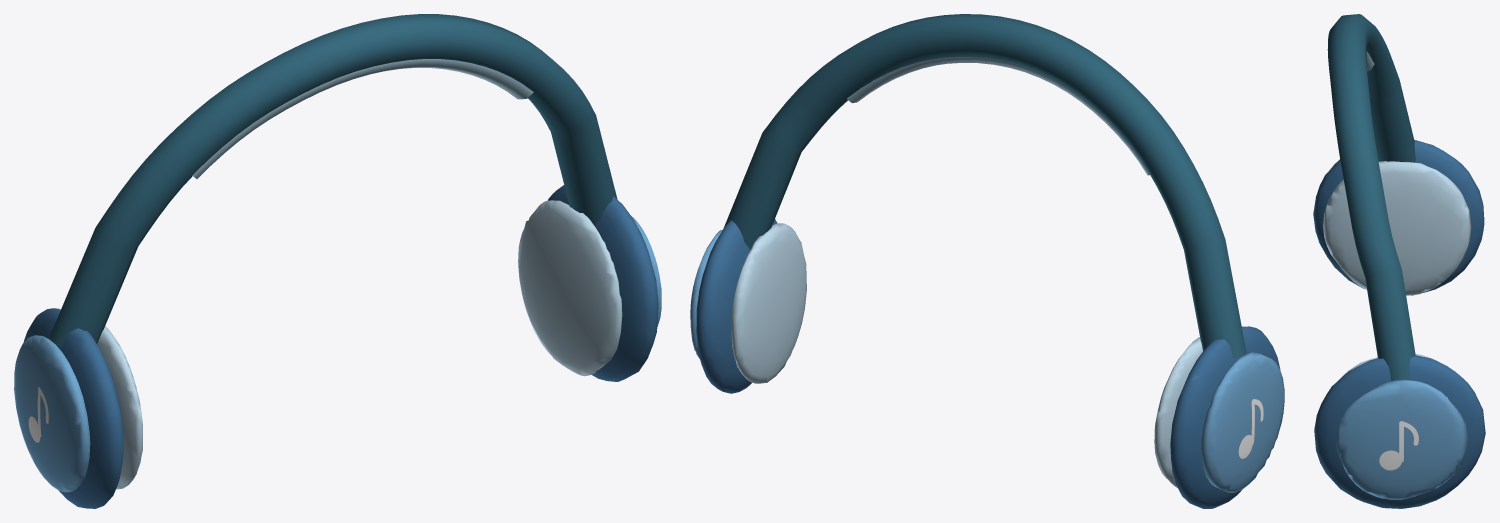
Rendered from headphones.glb.
3 renders of one model, left to right at view 1: azimuth 30°, elevation 25°; view 2: azimuth 150°, elevation 25°; view 3: azimuth 270°, elevation 25°, orthographic. The views are drawn at different scales.
Parts seen in each view (by area): view 1: band, cushion_L, cap_R, shell_R, shell_L, pad, cushion_R; view 2: band, cushion_L, cap_R, shell_R, shell_L, cushion_R, pad, cap_L; view 3: band, cap_L, cushion_R, shell_L, shell_R, note_L.
Part boxes in pixels (x1=…): band: x1=50, y1=14, x2=617, y2=347; cushion_L: x1=518, y1=200, x2=622, y2=376; cap_R: x1=14, y1=335, x2=90, y2=492; shell_R: x1=24, y1=308, x2=123, y2=508; shell_L: x1=548, y1=185, x2=658, y2=381; pad: x1=192, y1=59, x2=533, y2=178; cushion_R: x1=97, y1=326, x2=142, y2=489; band: x1=724, y1=14, x2=1246, y2=358; cushion_L: x1=731, y1=223, x2=806, y2=383; cap_R: x1=1201, y1=352, x2=1284, y2=492; shell_R: x1=1170, y1=326, x2=1280, y2=508; shell_L: x1=696, y1=219, x2=777, y2=393; cushion_R: x1=1154, y1=337, x2=1202, y2=487; pad: x1=847, y1=57, x2=1149, y2=175; cap_L: x1=690, y1=230, x2=722, y2=358; band: x1=1327, y1=14, x2=1415, y2=380; cap_L: x1=1336, y1=380, x2=1467, y2=499; cushion_R: x1=1323, y1=161, x2=1471, y2=295; shell_L: x1=1314, y1=355, x2=1485, y2=508; shell_R: x1=1313, y1=140, x2=1484, y2=295; note_L: x1=1379, y1=421, x2=1418, y2=470.
Size of the model in its own units: 0.4236 by 0.2993 by 0.1283.
Materials: 6 (1 with a texture image).
